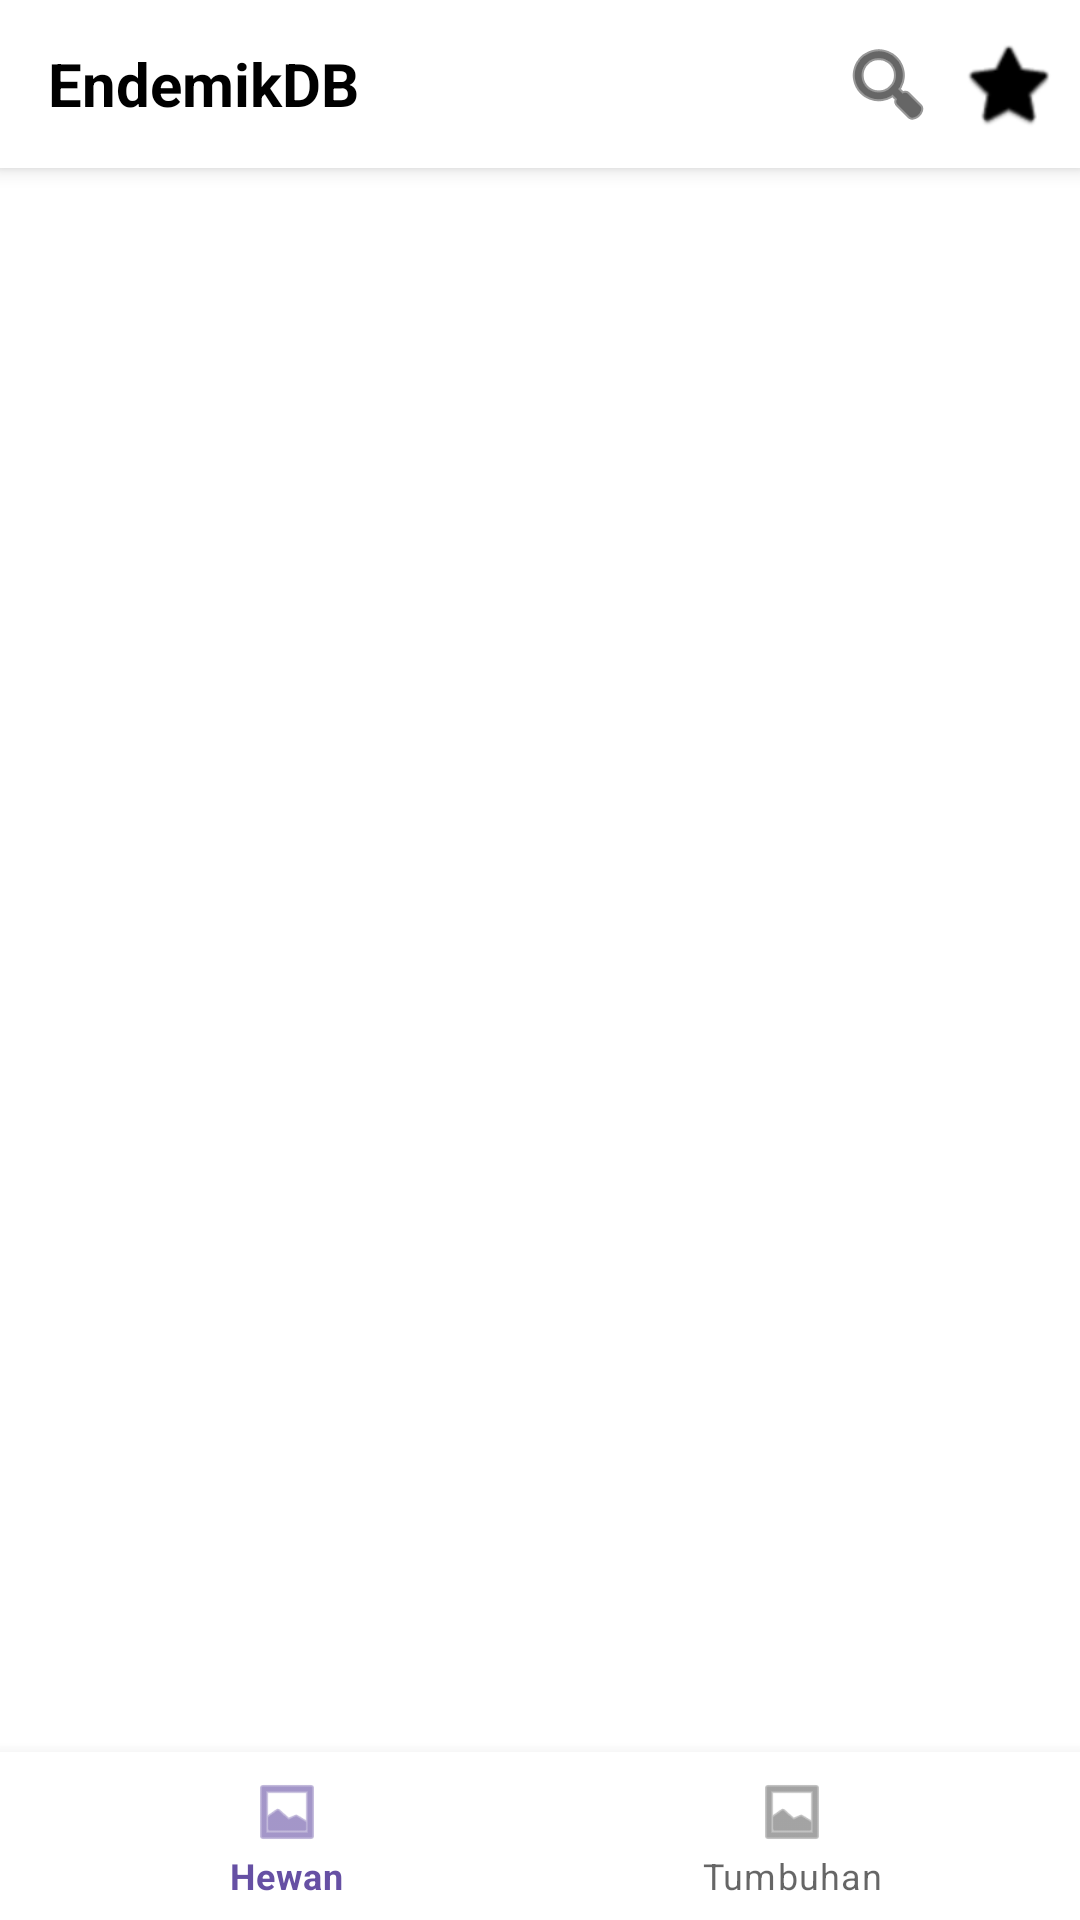

Where to tap for icons on this 1080x1920 app screen, as (x=x, y=y):
search: (x=888, y=84)
star off: (x=1009, y=85)
